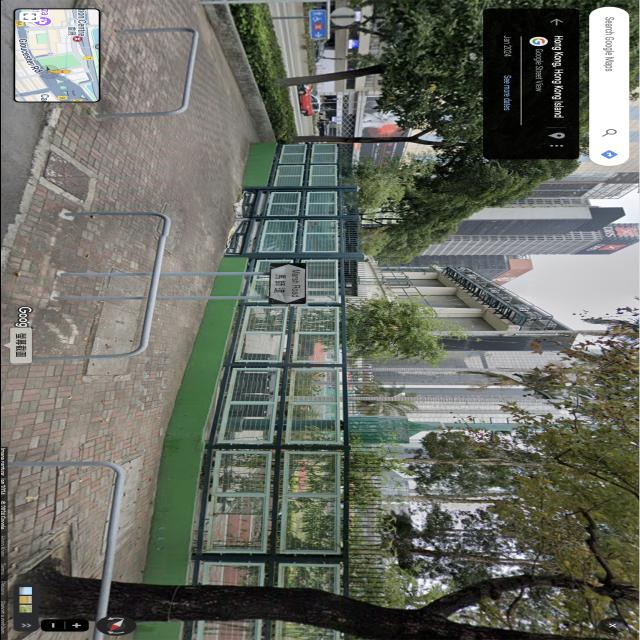Street-Direction-Sign: (268, 263, 306, 304)
